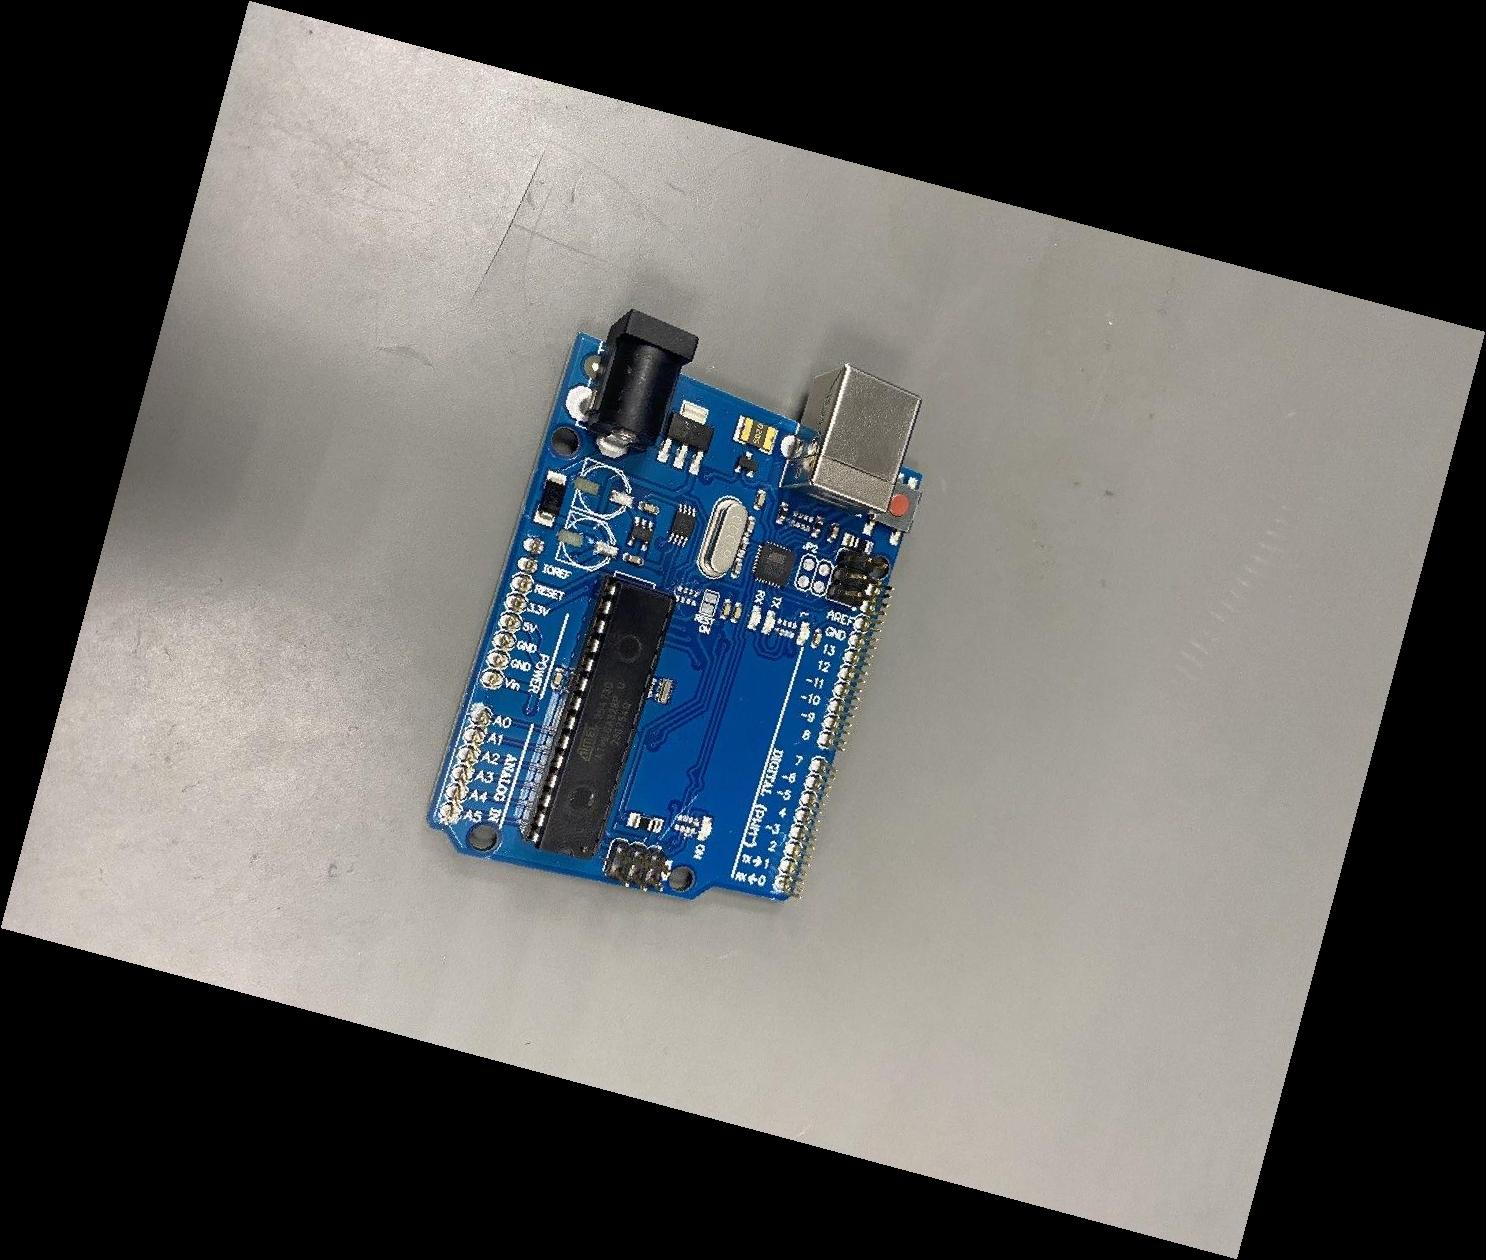ATmega328 chip: (517, 574, 677, 861)
Arduino board: (425, 309, 922, 902)
USB: (779, 362, 924, 516)
